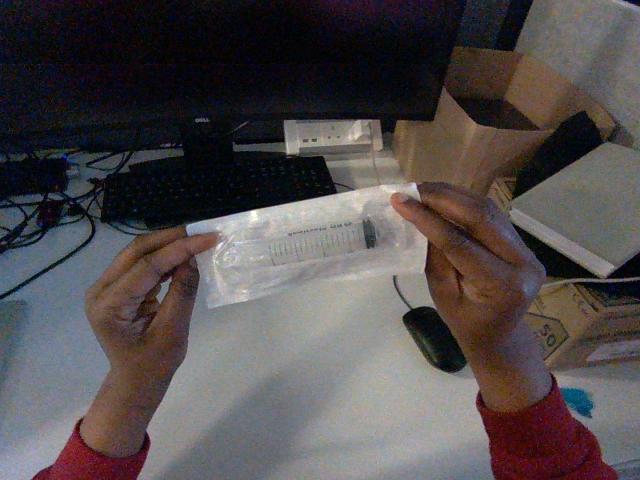syringe: (187, 183, 426, 307)
